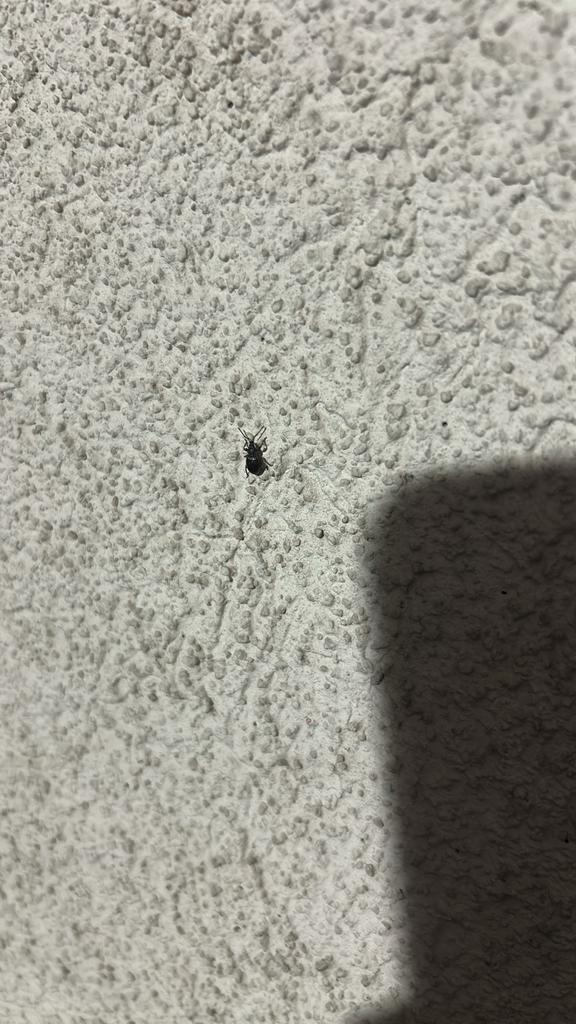weevils: (223, 410, 293, 493)
